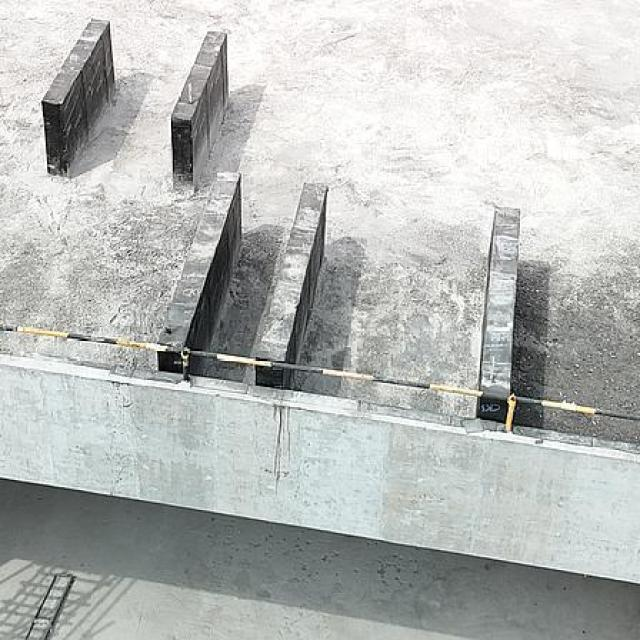edge_guardrail: (0, 322, 640, 437)
